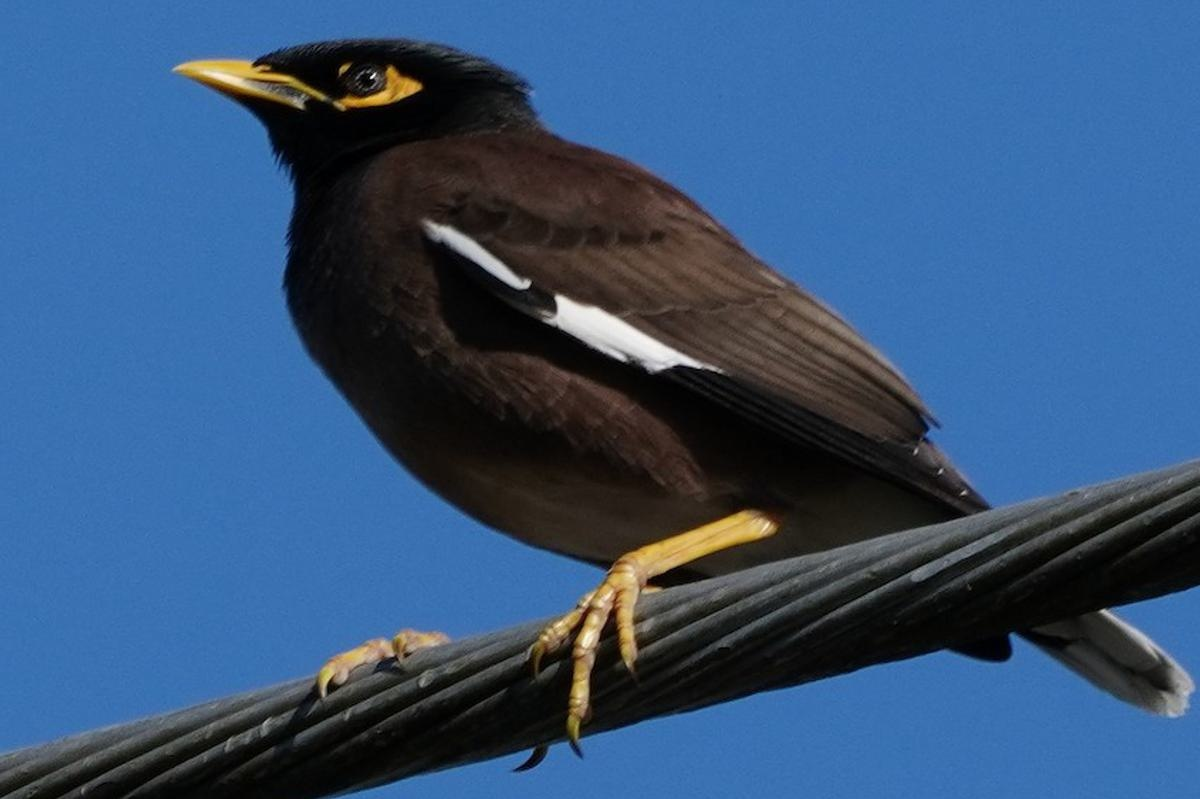myna: (188, 23, 1058, 726)
